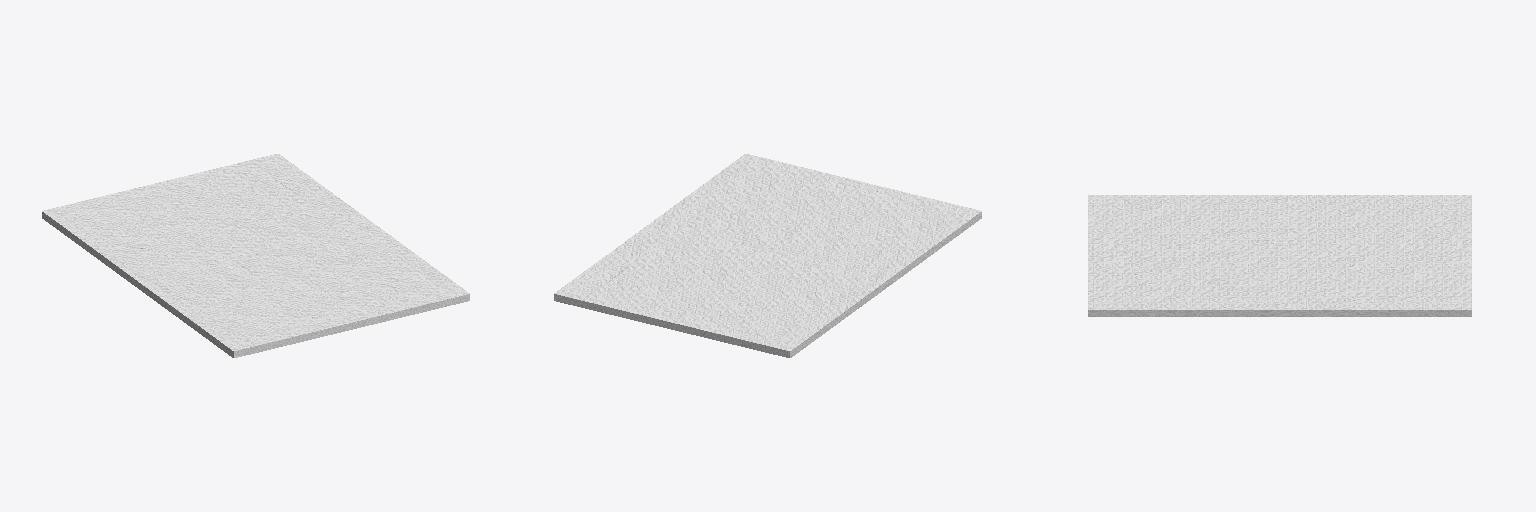
The picture shows the model from 3 angles: view 1: azimuth 30°, elevation 25°; view 2: azimuth 150°, elevation 25°; view 3: azimuth 270°, elevation 25°; orthographic projection.
Visible parts, largest first — view 1: pCube1; view 2: pCube1; view 3: pCube1.
Part boxes in pixels (x1,y1,x2,y2): pCube1: (42,154,469,357); pCube1: (554,154,981,357); pCube1: (1088,195,1471,316).
Bounding box in the file's own units: 0.4969 × 0.0143 × 0.6983.
Materials: 1 (1 with a texture image).